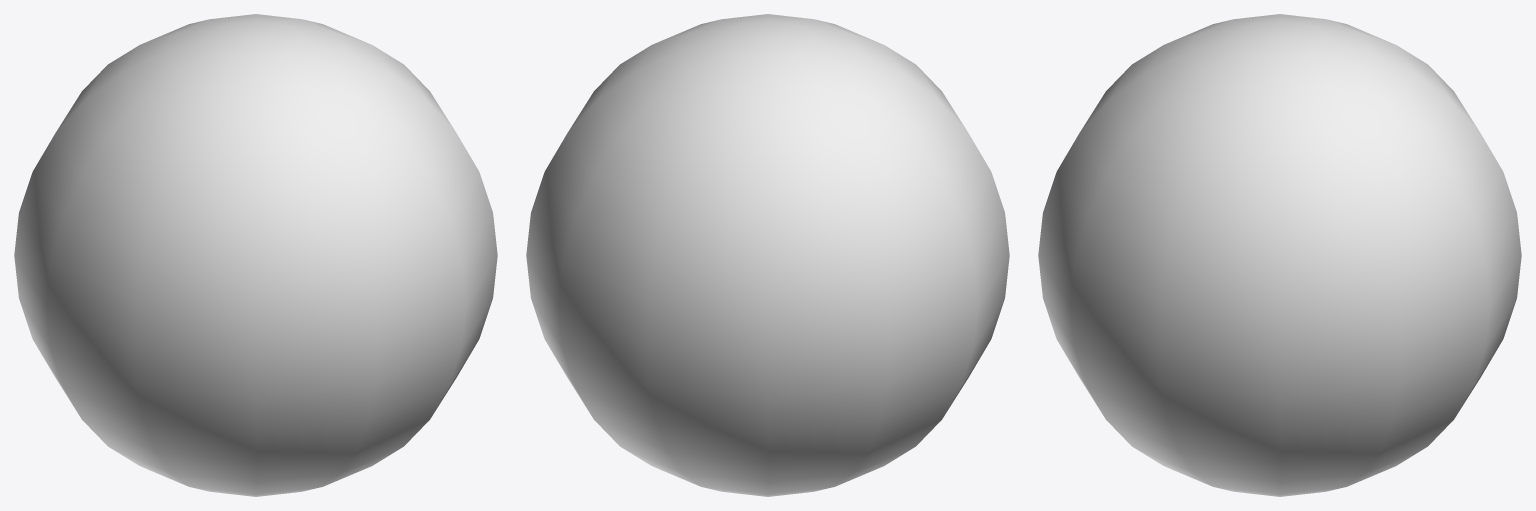
File: Wool.fbx
3 renders of one model, left to right at view 1: azimuth 30°, elevation 25°; view 2: azimuth 150°, elevation 25°; view 3: azimuth 270°, elevation 25°, orthographic.
Visible parts, largest first — view 1: Wool; view 2: Wool; view 3: Wool.
Boxes of the visible parts, x1,y1,x2,y2 form: Wool: (14,14,497,496); Wool: (526,14,1009,496); Wool: (1038,14,1521,496).
Bounding box in the file's own units: 0.0357 × 0.0357 × 0.0357.
Materials: 1 (1 with a texture image).
